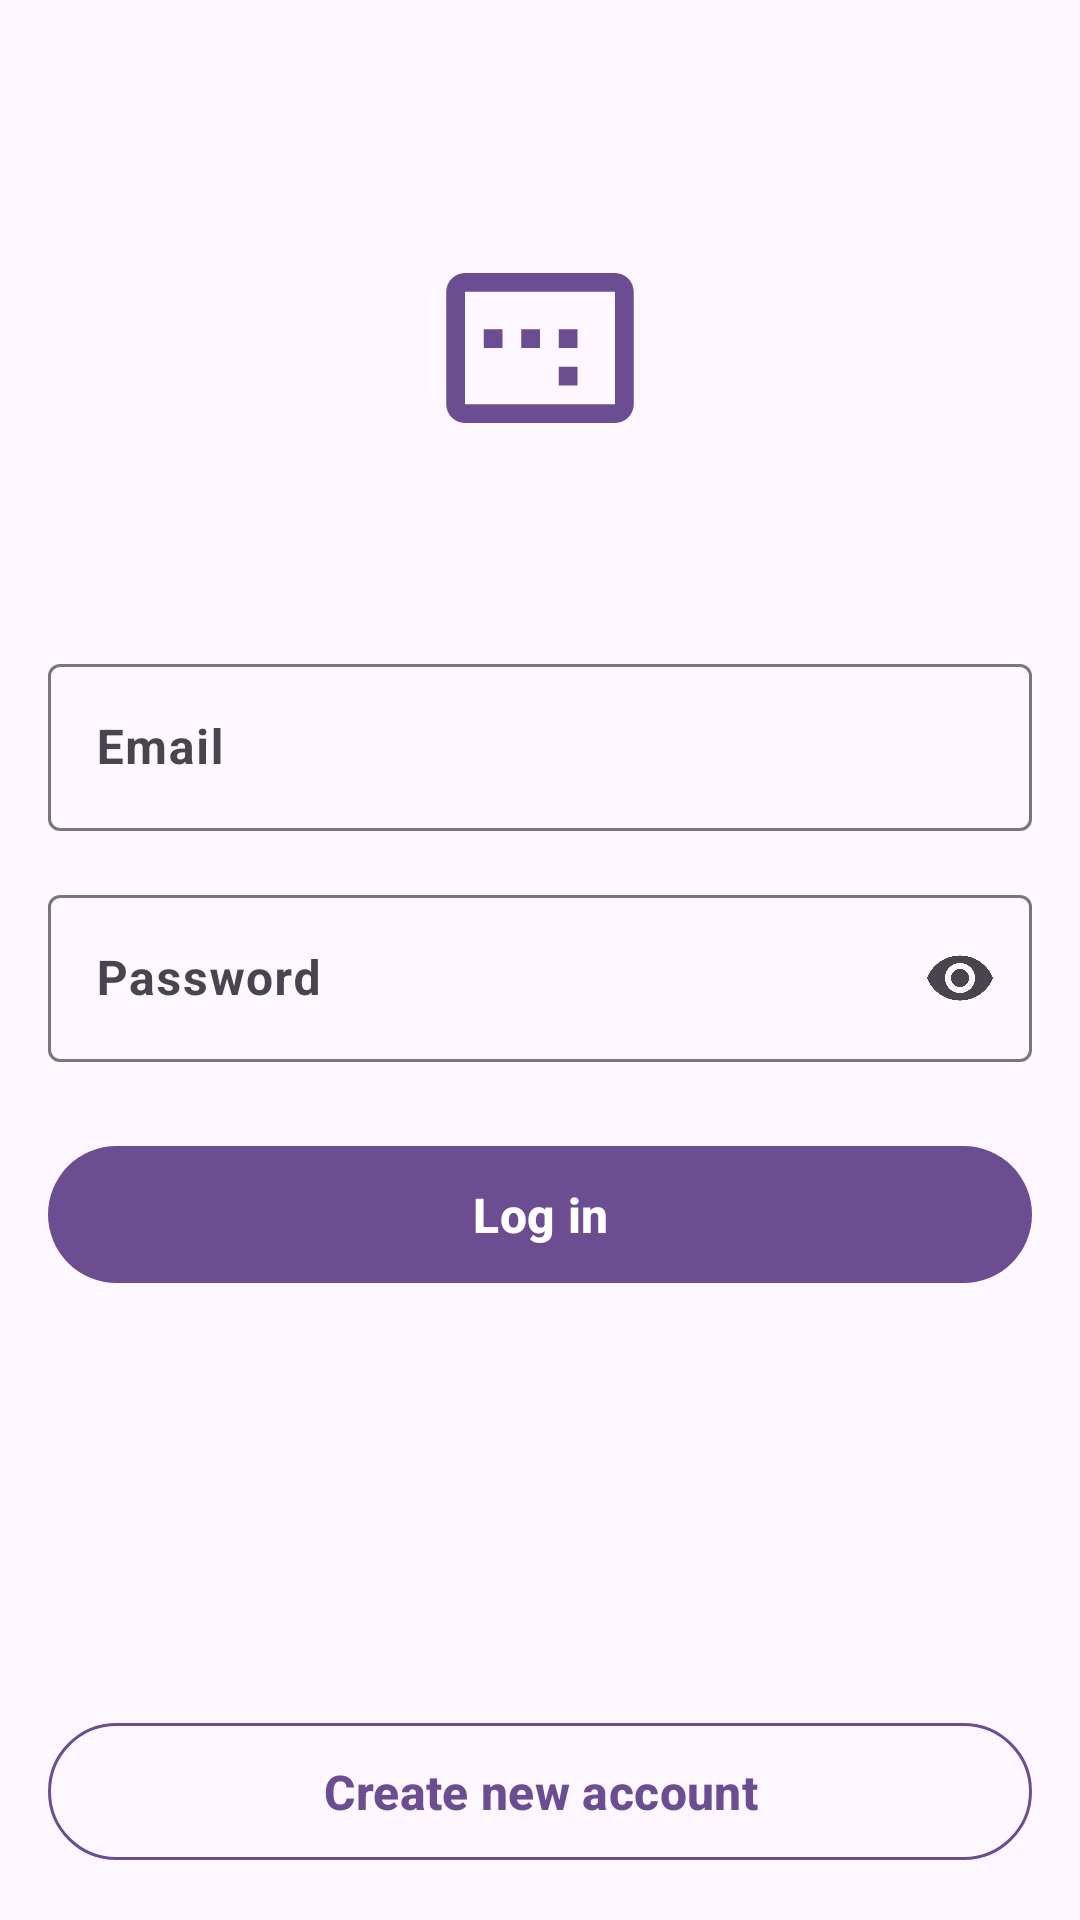

Named icons in this screenshot (1080 x 1920) and their bounding boxes, {"x1": x1, "y1": y1, "x2": x2, "y2": y2}:
aspect ratio: {"x1": 446, "y1": 273, "x2": 634, "y2": 423}
